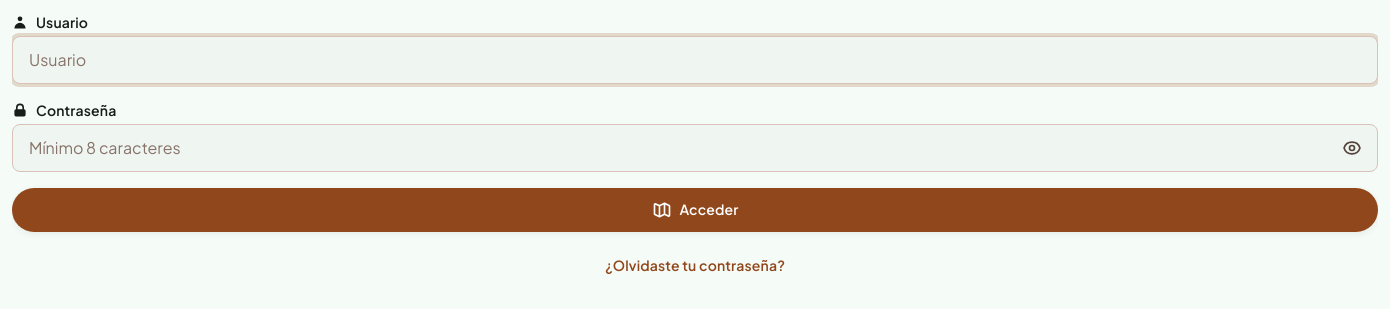
Test case: LoginForm › valida caracteres inválidos en nombre de usuario
Type "user@invalid" into the field labelled "Usuario" at point(695, 60), box [12,36,1378,84]
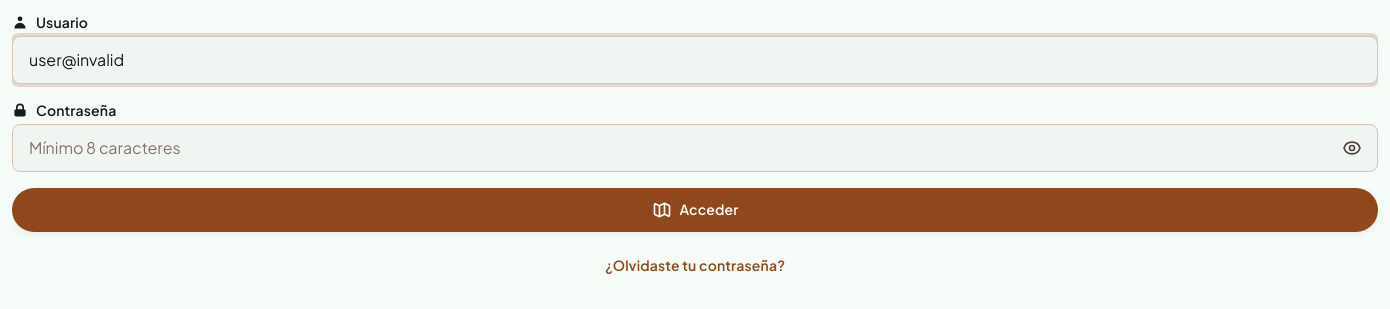
Type "password123" into the password field with placeholder "Mínimo 8 caracteres" at point(695, 148), box [12,124,1378,172]
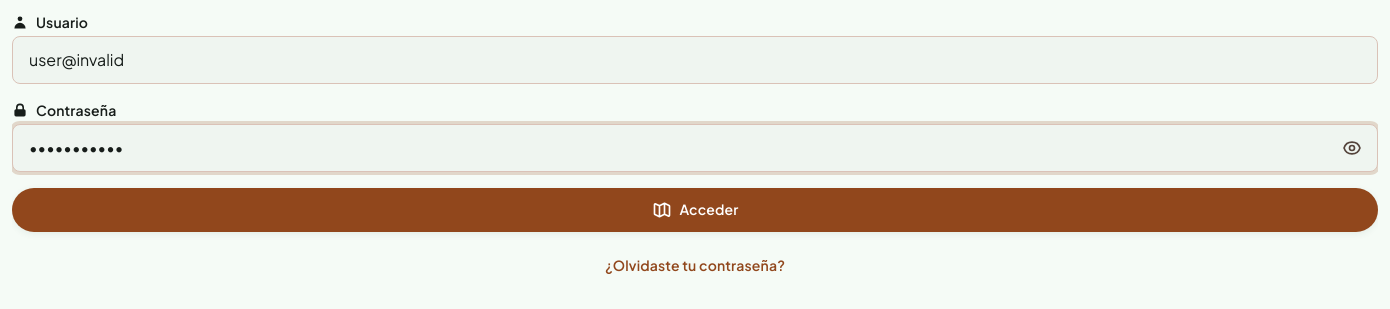
Click the button "Acceder" at point(695, 210), box [12,188,1378,232]
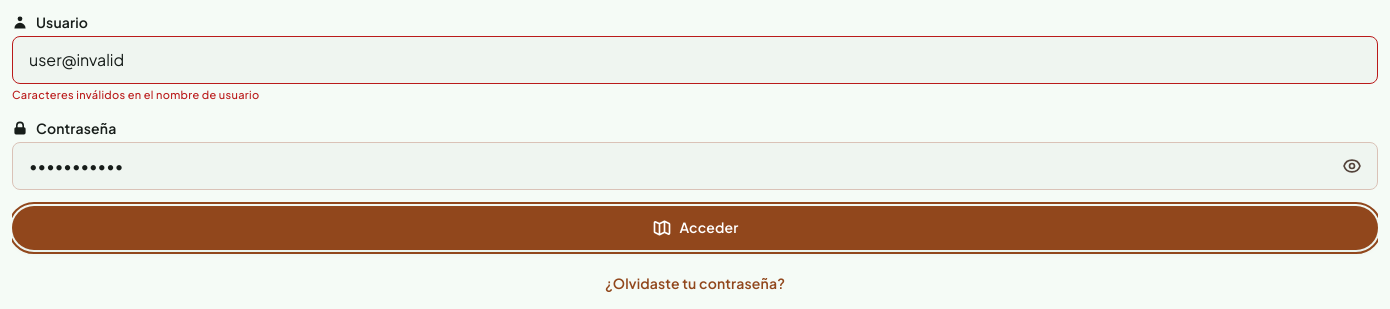
Expected: the text "Caracteres inválidos en el nombre de usuario" is shown, [11,87,260,101]
